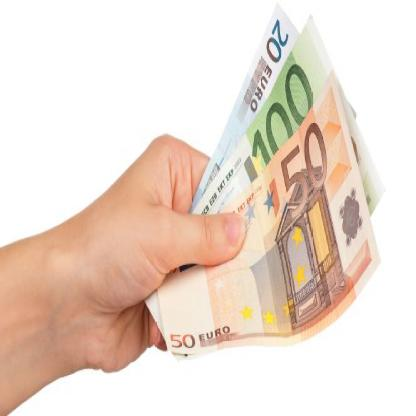billete: (140, 1, 388, 362)
